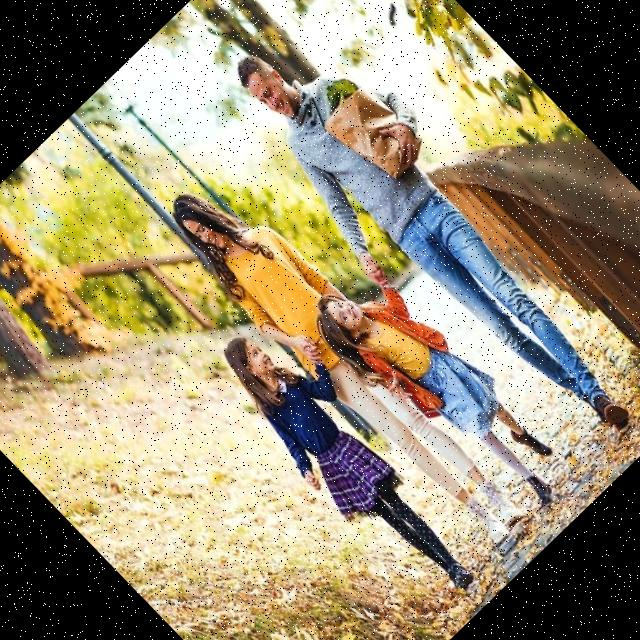Person: (200, 0, 640, 478), (154, 160, 544, 560), (201, 309, 501, 615), (304, 253, 584, 538)
